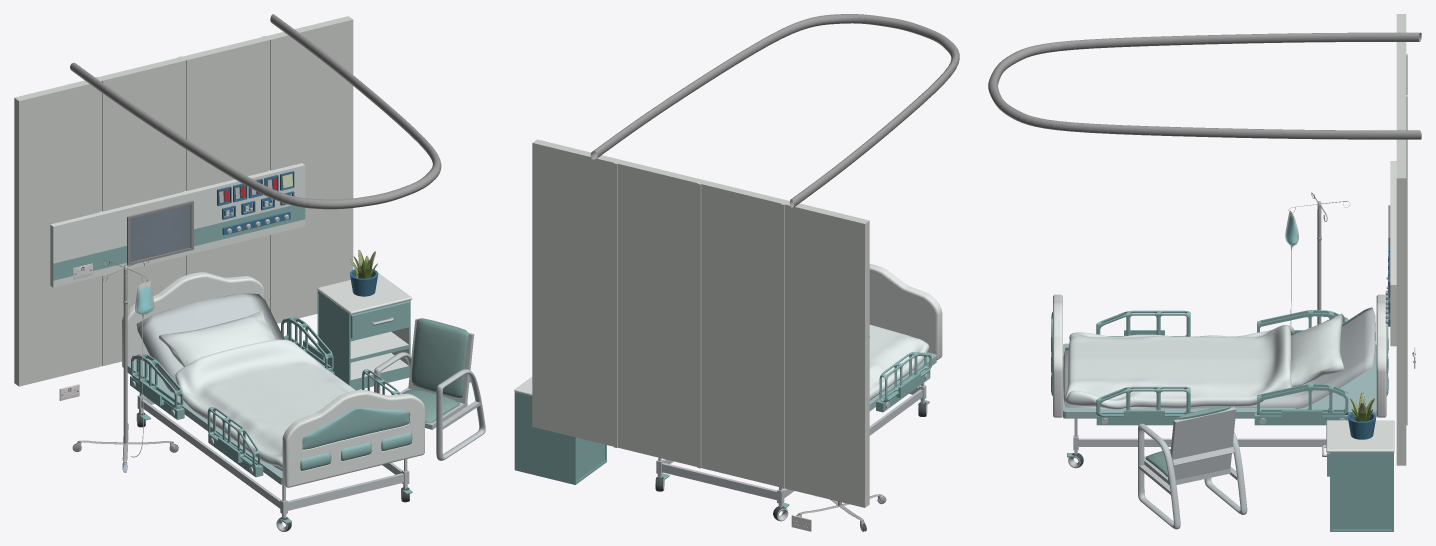
The model's file is bed-refined-v1.glb.
3 renders of one model, left to right at view 1: azimuth 30°, elevation 25°; view 2: azimuth 150°, elevation 25°; view 3: azimuth 270°, elevation 25°, orthographic.
Parts seen in each view (by area): view 1: BedHeadWall, BedBody, BedHeadServicePanel, BedChair, CabinetBody, CurtainRail, BedTerminalSurface, Cabinet_CleanableTop, IVStand, 球体, BedTerminalHousing, 检测设施.007 (+1 smaller); view 2: BedHeadWall, BedBody, CurtainRail, CabinetBody; view 3: BedBody, CurtainRail, BedChair, CabinetBody, BedHeadWall, Cabinet_CleanableTop, BedHeadServicePanel, 球体, IVStand.
Part boxes in pixels (x1,y1,x2,y2): BedHeadWall: (14, 16, 353, 386); BedBody: (122, 272, 424, 531); BedHeadServicePanel: (50, 163, 305, 287); BedChair: (374, 318, 485, 460); CabinetBody: (317, 290, 410, 390); CurtainRail: (70, 14, 441, 209); BedTerminalSurface: (130, 204, 190, 261); Cabinet_CleanableTop: (317, 273, 412, 314); IVStand: (72, 259, 178, 472); 球体: (350, 249, 378, 296); BedTerminalHousing: (127, 200, 193, 265); 检测设施.007: (217, 171, 294, 205); BedHeadWall: (532, 139, 869, 507); BedBody: (655, 264, 942, 521); CurtainRail: (590, 14, 959, 208); CabinetBody: (514, 392, 606, 484); BedBody: (1051, 294, 1388, 468); CurtainRail: (988, 32, 1421, 139); BedChair: (1138, 406, 1247, 529); CabinetBody: (1327, 452, 1393, 531); BedHeadWall: (1396, 14, 1407, 465); Cabinet_CleanableTop: (1326, 420, 1394, 452); BedHeadServicePanel: (1390, 161, 1396, 346); 球体: (1347, 392, 1376, 439); IVStand: (1288, 192, 1350, 324).
Bounding box in the file's own units: 2.06 × 1.93 × 2.14.
30 materials, 4 textured.
